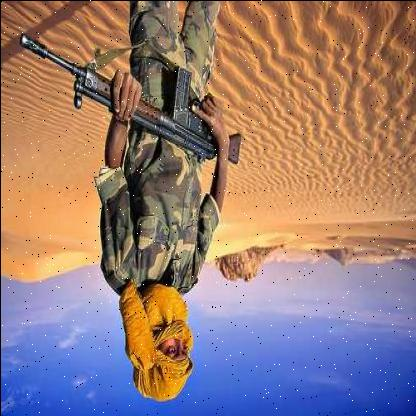rifle: (15, 22, 249, 173)
